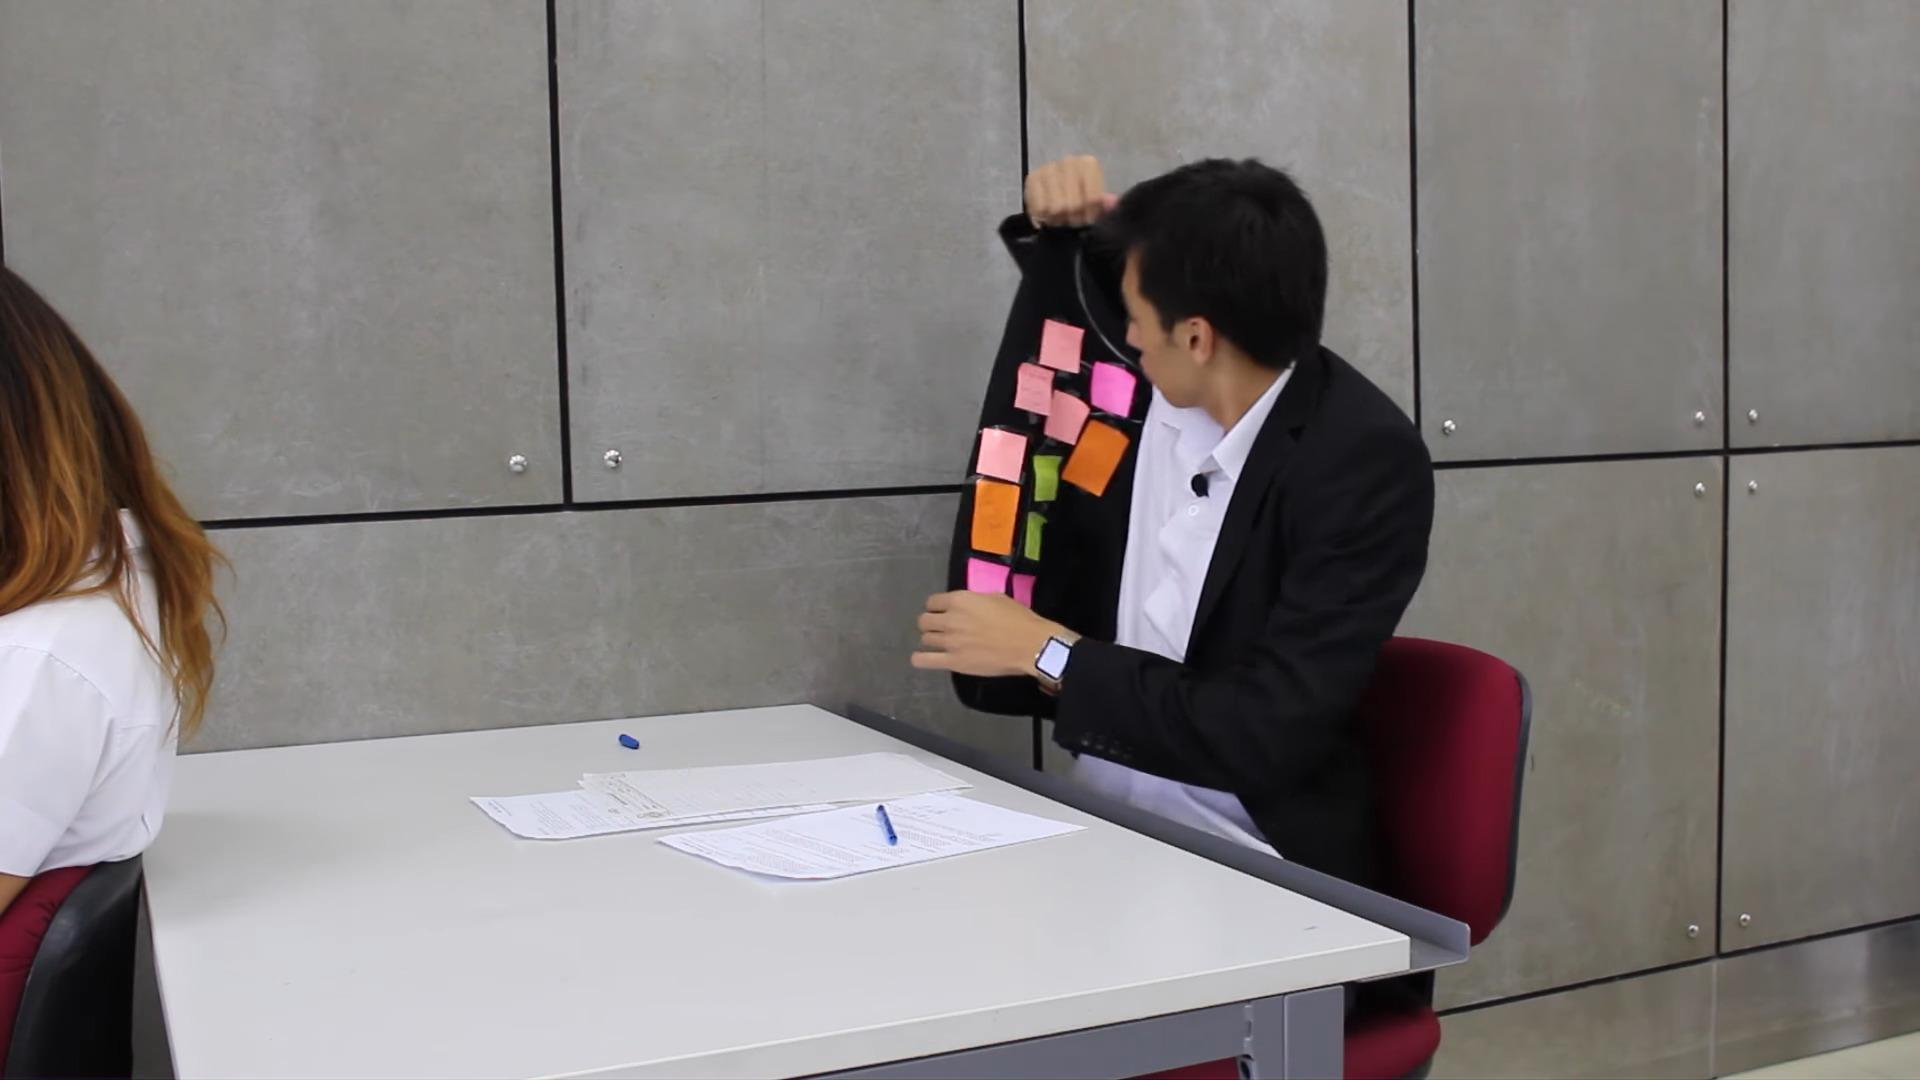cheating: (427, 120, 1470, 913)
